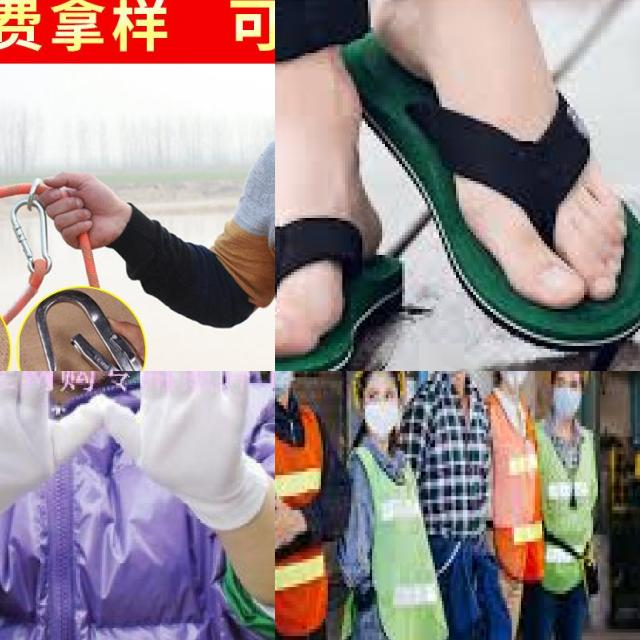Sandals: (371, 0, 640, 354), (275, 98, 386, 371)
hand_glove: (113, 371, 259, 512), (0, 371, 102, 529)
head_helmet: (348, 371, 402, 381)
person: (0, 371, 275, 640), (332, 371, 432, 640), (404, 371, 496, 640), (275, 371, 342, 640), (539, 371, 597, 640), (482, 371, 538, 640)
vest: (342, 441, 446, 640), (275, 393, 334, 629), (480, 378, 544, 574), (533, 408, 595, 598)
